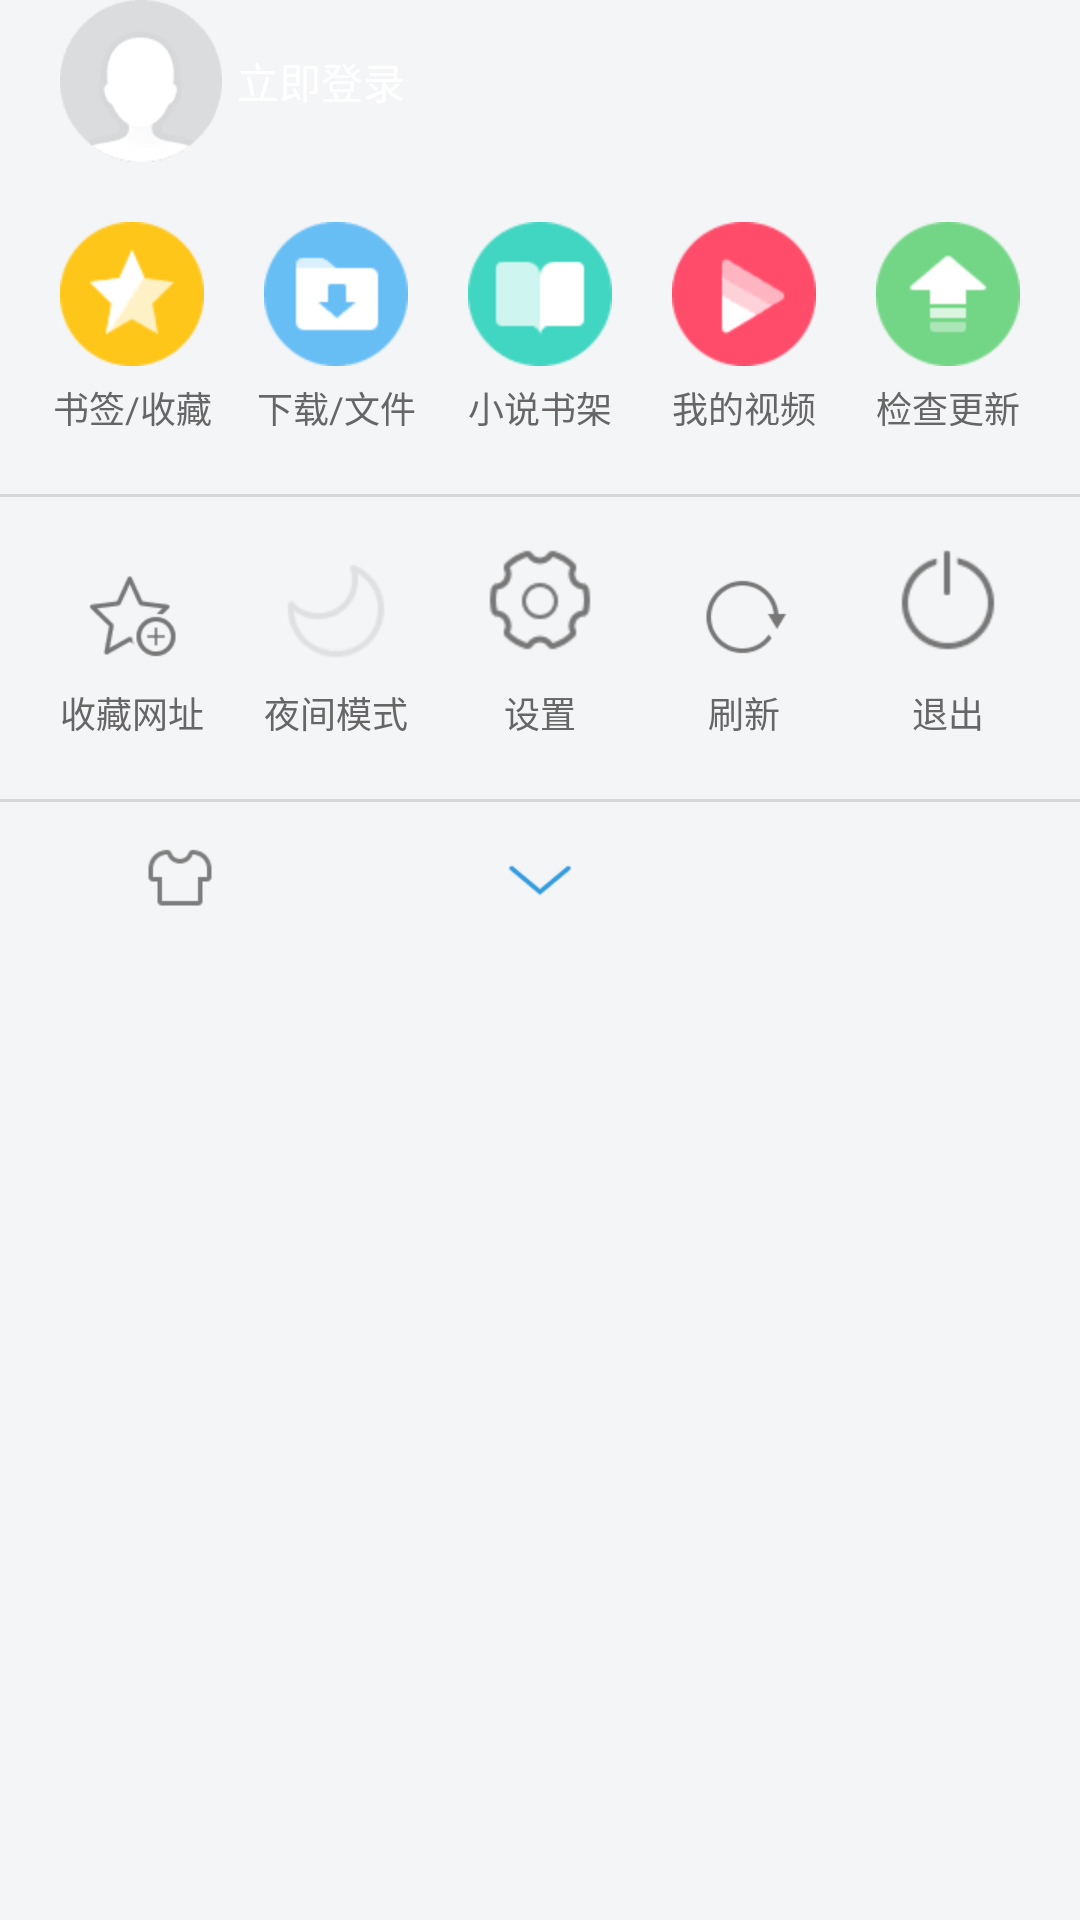

Icon bounding boxes for this 1080 × 1920 phone screenshot, format box=[x1, y1, x2, y2]:
controlbar skinmanage in portrait: box=[148, 850, 212, 906]
